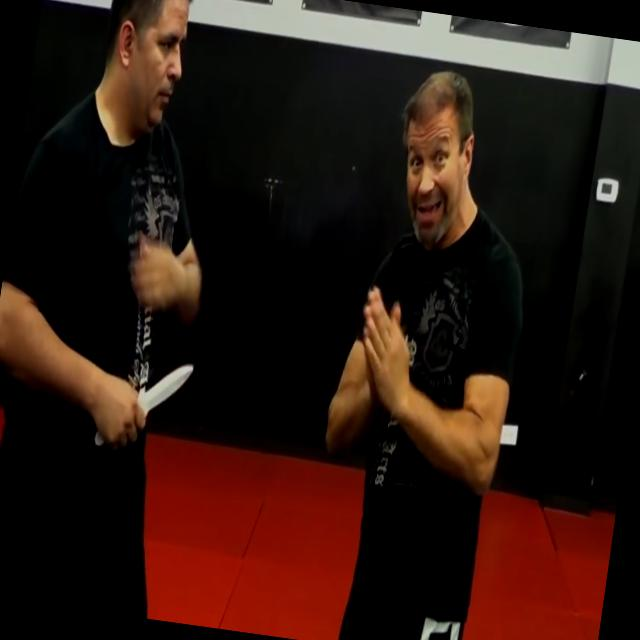knife: (88, 342, 199, 462)
